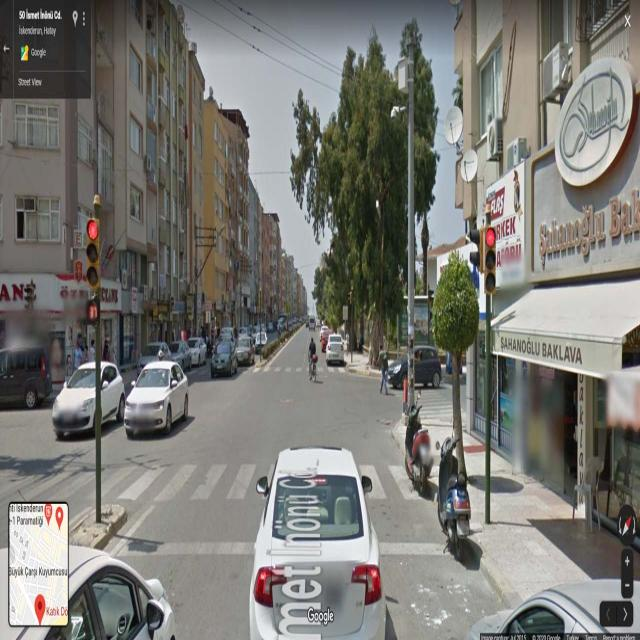kirmizi: (86, 217, 100, 290), (484, 225, 496, 294)
